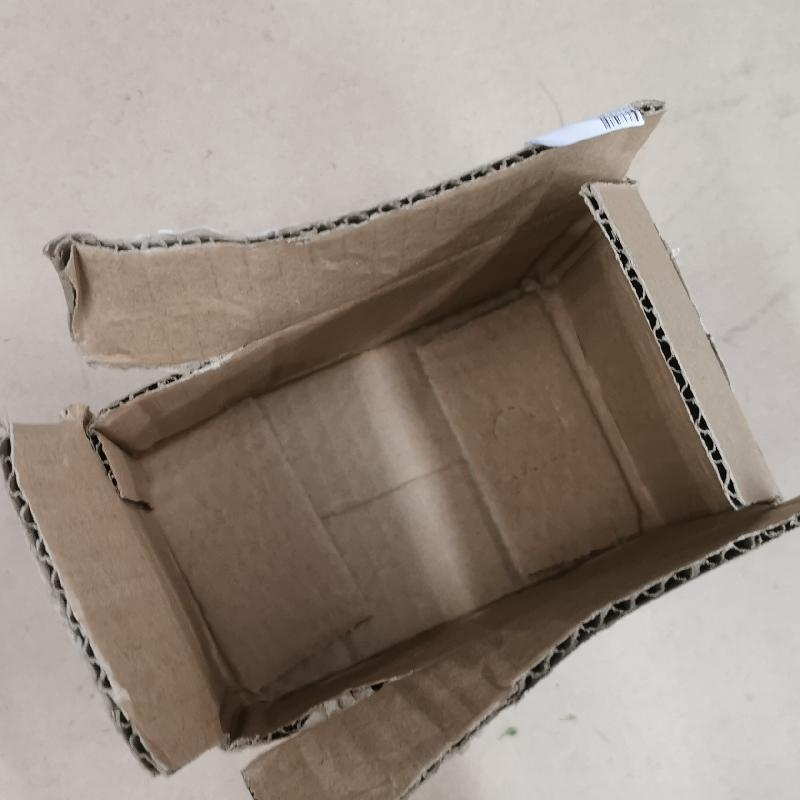boxes: (0, 98, 799, 800)
